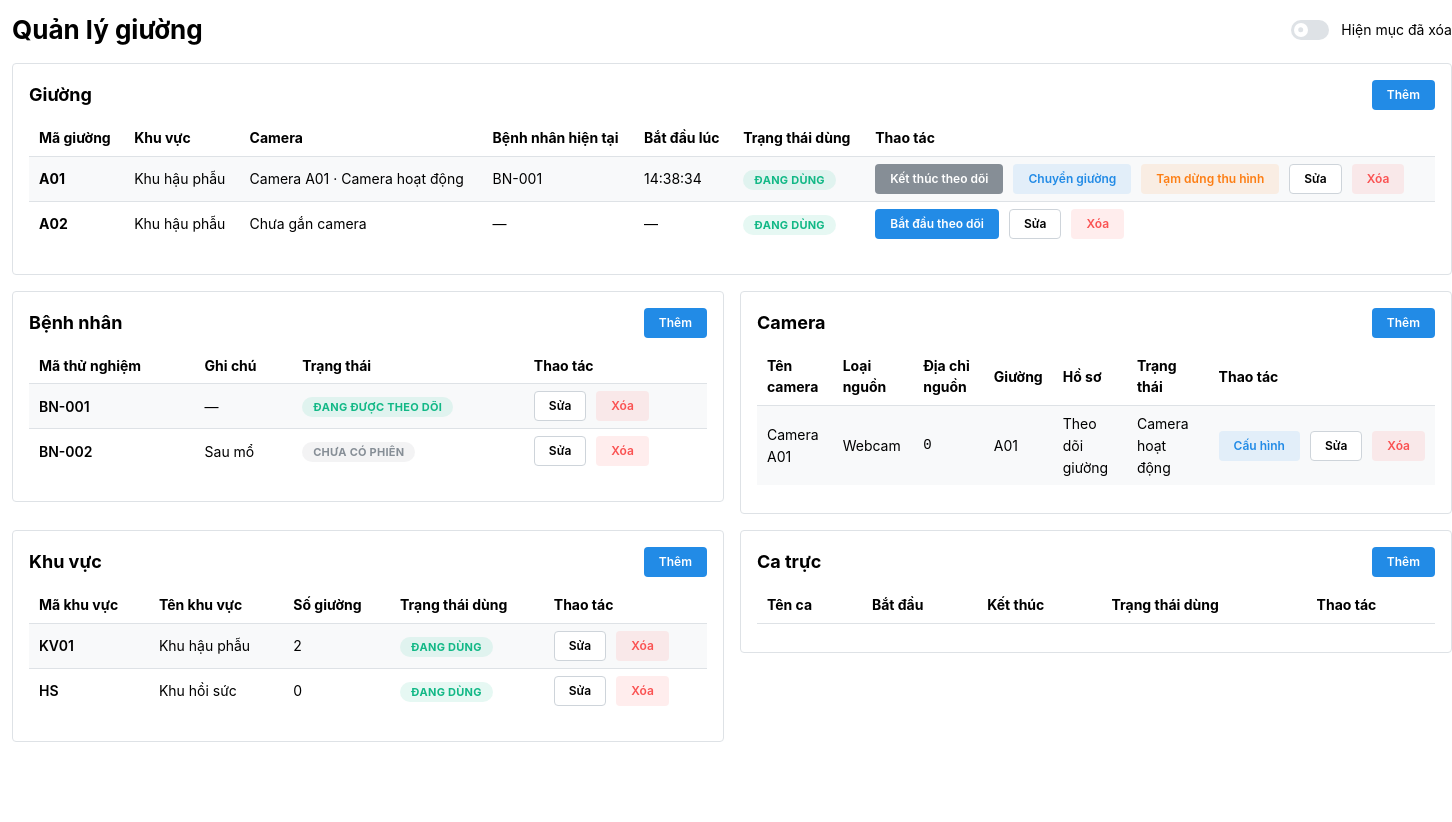
Test: ManagementPage › shows restore for deleted items
Later steps or results of the test are not shown.
Expected: the text "A09" is not shown
Step 1. Click the switch labelled "Hiện mục đã xóa" → (1372, 30), box left=1291, top=20, right=1451, bottom=40
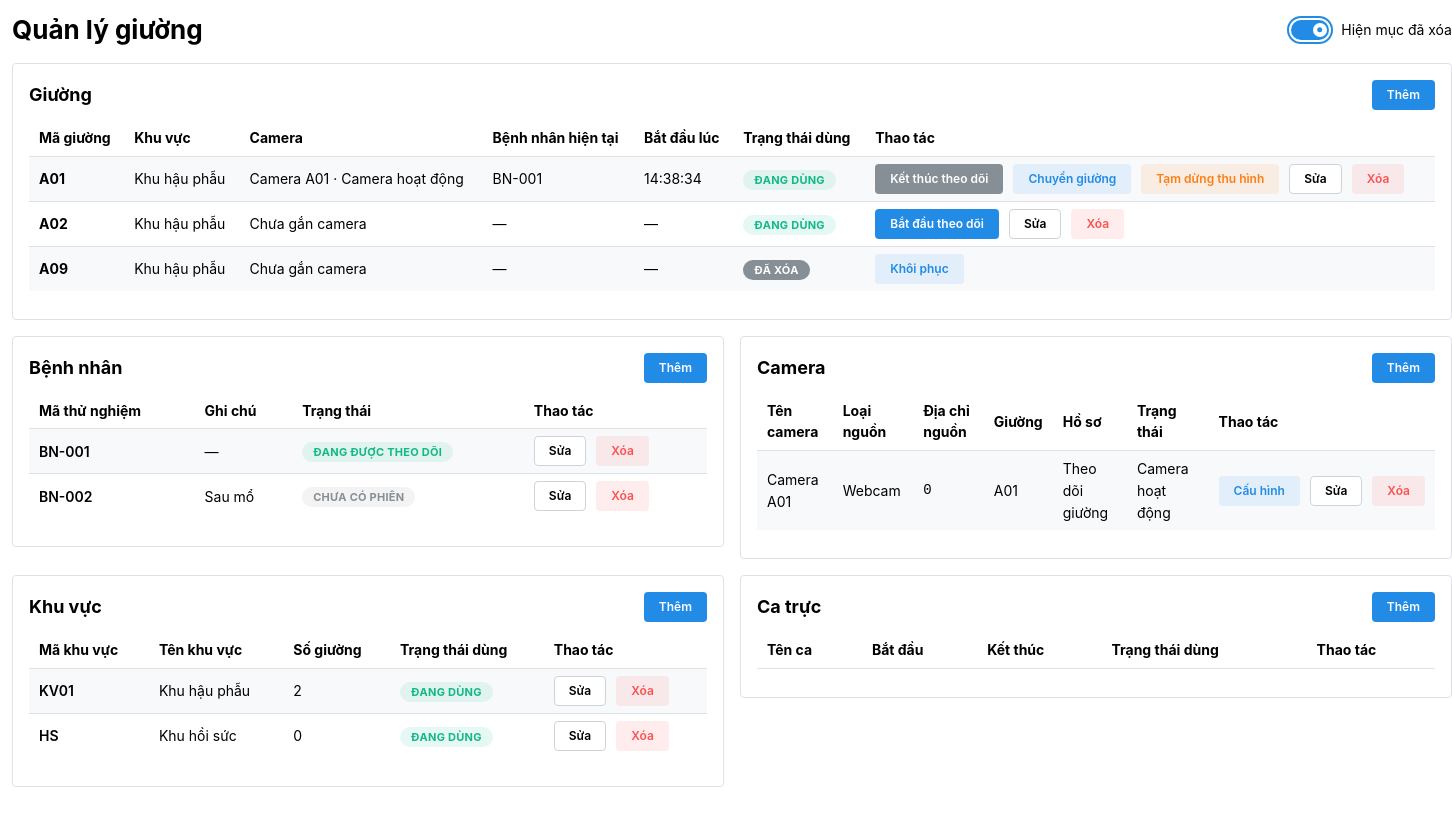
Expected: the text "Đã xóa" is shown, left=754, top=261, right=799, bottom=279
